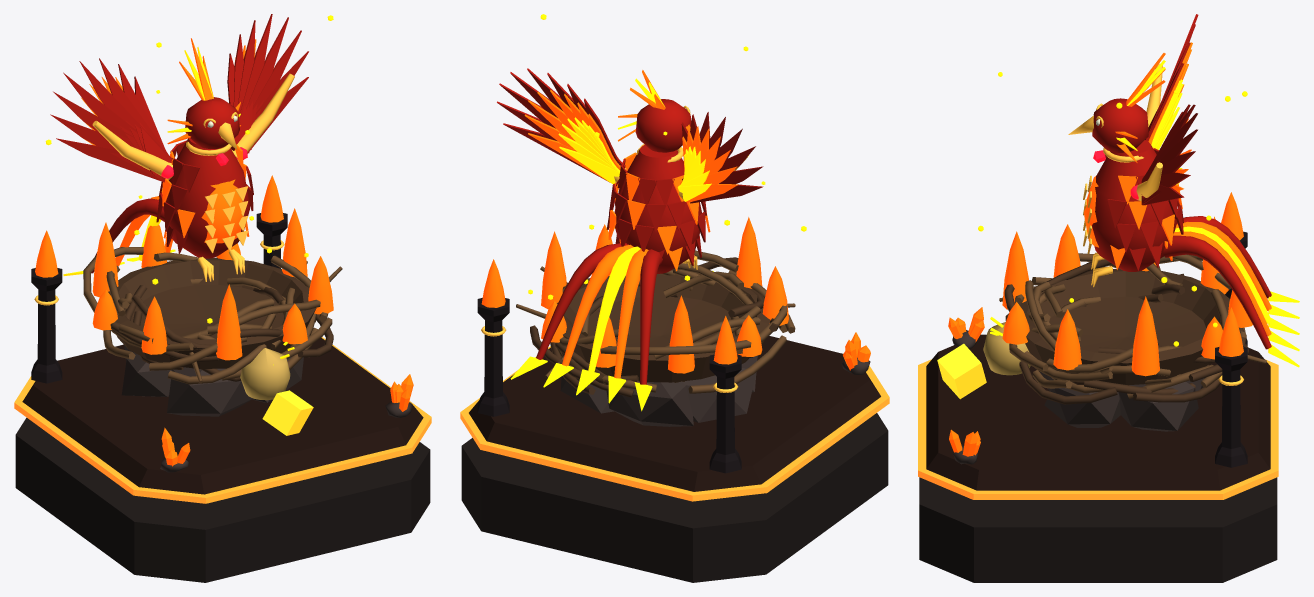
Rendered from PhoenixNestMine_Roblox.fbx.
The picture shows the model from 3 angles, left to right: view 1: azimuth 30°, elevation 25°; view 2: azimuth 150°, elevation 25°; view 3: azimuth 270°, elevation 25°; orthographic projection. The views are drawn at different scales.
Visible parts, largest first — view 1: Charcoal, EmberMarble, PhoenixRed, PhoenixOrange, DarkTwigs, Twigs, VolcanicRock, FireTrim, Gold, Obsidian, EggShell, PhoenixOre (+1 smaller); view 2: Charcoal, EmberMarble, PhoenixOrange, PhoenixRed, DarkTwigs, FlameYellow, Twigs, VolcanicRock, FireTrim, Obsidian, Gold; view 3: Charcoal, EmberMarble, DarkTwigs, PhoenixRed, PhoenixOrange, Twigs, FireTrim, VolcanicRock, FlameYellow, Obsidian, Gold, PhoenixOre (+1 smaller).
Boxes of the visible parts, <box> form: Charcoal: <box>15,417,430,582</box>; EmberMarble: <box>22,337,423,494</box>; PhoenixRed: <box>50,14,308,273</box>; PhoenixOrange: <box>35,38,413,466</box>; DarkTwigs: <box>108,257,333,381</box>; Twigs: <box>83,247,342,384</box>; VolcanicRock: <box>121,345,411,472</box>; FireTrim: <box>14,337,431,503</box>; Gold: <box>34,73,294,305</box>; Obsidian: <box>31,213,287,383</box>; EggShell: <box>240,348,290,400</box>; PhoenixOre: <box>262,390,313,435</box>; Charcoal: <box>461,413,888,582</box>; EmberMarble: <box>469,336,880,491</box>; PhoenixOrange: <box>481,70,870,378</box>; PhoenixRed: <box>497,68,763,384</box>; DarkTwigs: <box>530,257,778,397</box>; FlameYellow: <box>510,14,806,411</box>; Twigs: <box>516,250,795,393</box>; VolcanicRock: <box>560,355,870,426</box>; FireTrim: <box>460,346,889,501</box>; Obsidian: <box>477,298,741,473</box>; Gold: <box>481,105,748,392</box>; Charcoal: <box>919,477,1277,582</box>; EmberMarble: <box>926,334,1270,490</box>; DarkTwigs: <box>1004,259,1248,404</box>; PhoenixRed: <box>1092,14,1271,349</box>; PhoenixOrange: <box>948,42,1271,456</box>; Twigs: <box>999,253,1266,398</box>; FireTrim: <box>918,359,1278,499</box>; VolcanicRock: <box>952,330,1205,464</box>; FlameYellow: <box>978,60,1299,367</box>; Obsidian: <box>1215,231,1247,467</box>; Gold: <box>1068,63,1243,385</box>; PhoenixOre: <box>937,343,986,399</box>.
Bounding box in the file's own units: 1058 × 1505 × 1120.
